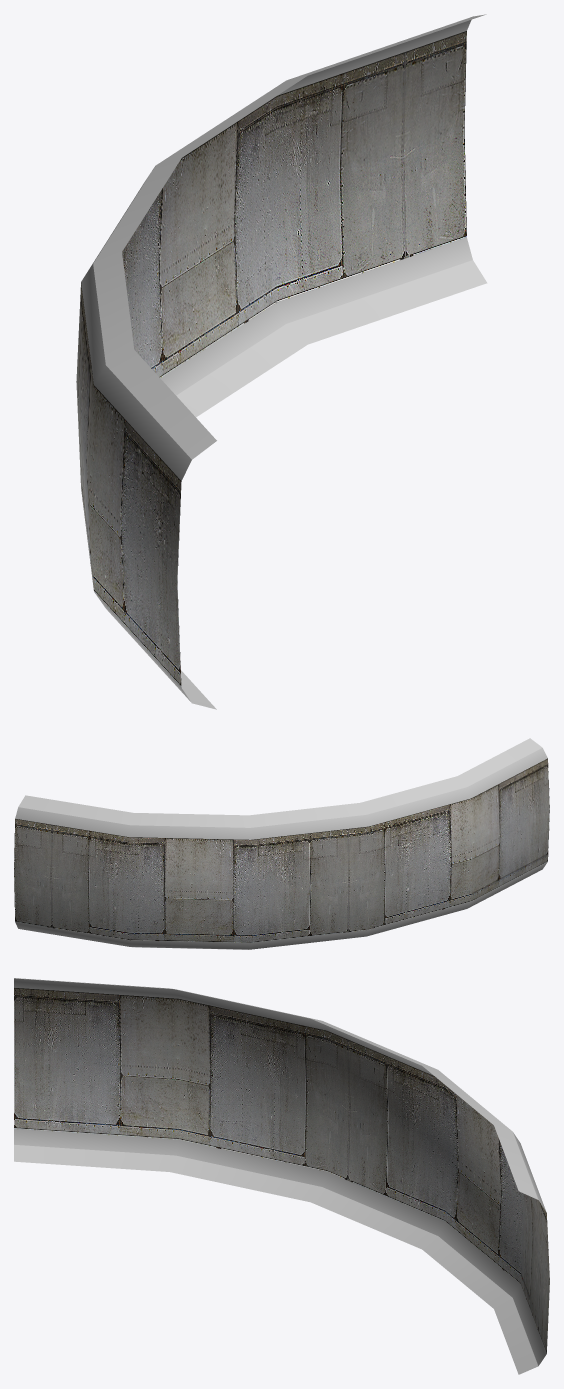
Rendered from Wall_D_Short2mts_09.fbx.
3 views of the same model, one above another, from view 1: azimuth 30°, elevation 25°; view 2: azimuth 150°, elevation 25°; view 3: azimuth 270°, elevation 25° (orthographic). The views are drawn at different scales.
Visible parts, largest first — view 1: Wall_D_Short2mts_09; view 2: Wall_D_Short2mts_09; view 3: Wall_D_Short2mts_09.
Boxes of the visible parts, bbox=[...] form: Wall_D_Short2mts_09: bbox=[76, 14, 487, 709]; Wall_D_Short2mts_09: bbox=[14, 738, 549, 949]; Wall_D_Short2mts_09: bbox=[14, 978, 549, 1374].
Bounding box in the file's own units: 529 × 200 × 529.
